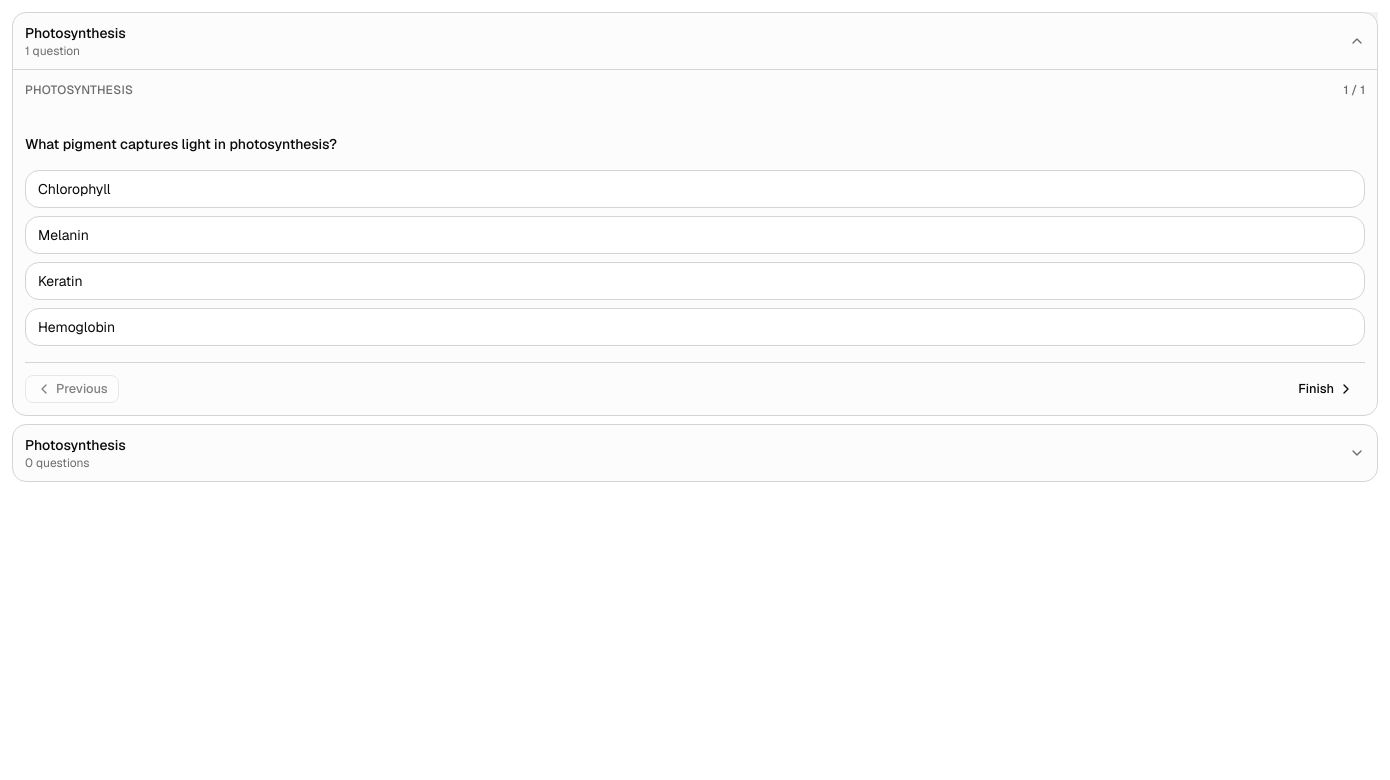
Scenario: QuizPanel — persisted quiz with zero questions › the Disclosure still labels it correctly, and a normal quiz alongside it is unaffected
This screenshot has width=1390, height=780.
Expected: the text "0 questions" is shown, x1=25 y1=455 x2=90 y2=471
Click the button "Photosynthesis 0 questions" at (75, 445), box x1=13 y1=425 x2=1377 y2=481
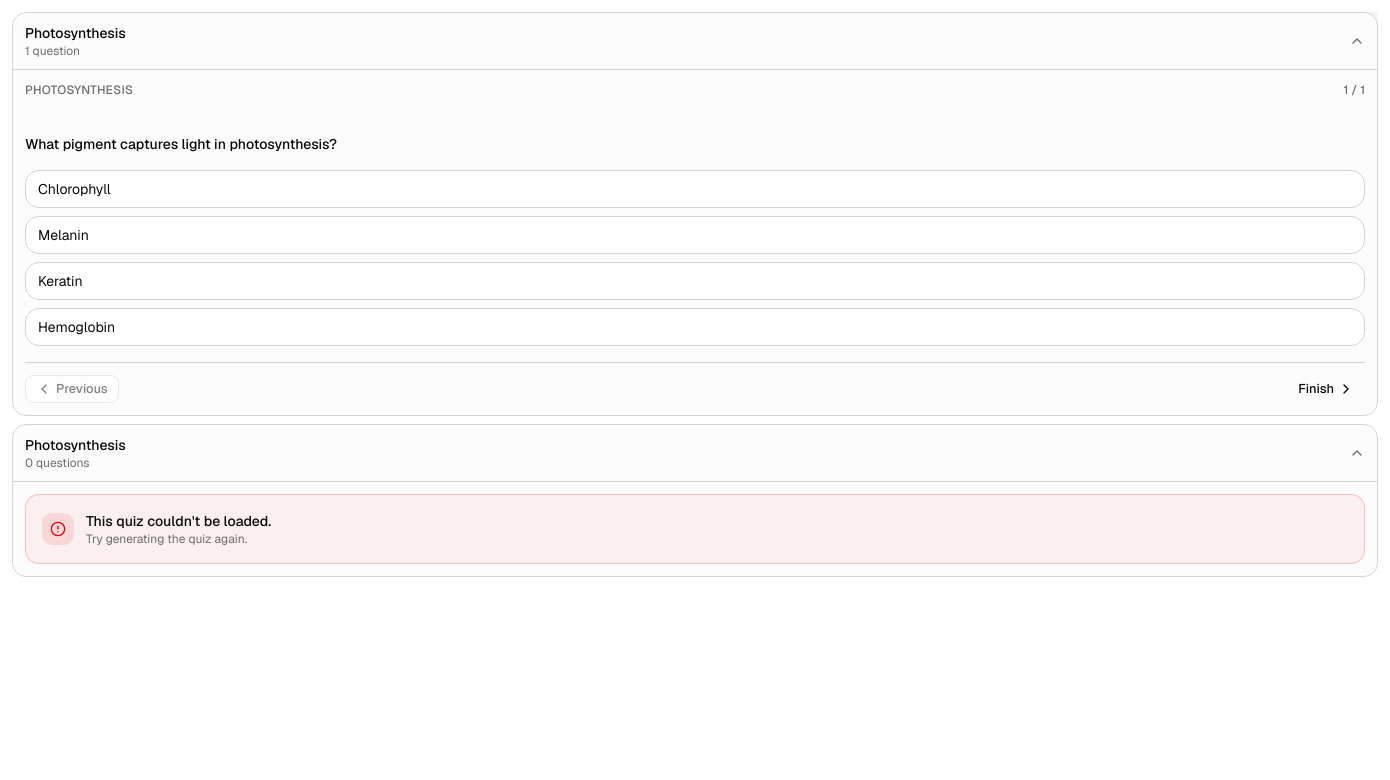
Expected: the button "Chlorophyll" is shown, x1=25 y1=170 x2=1365 y2=208
Now the message shows "This quiz couldn't be loaded.", box x1=86 y1=512 x2=271 y2=530
